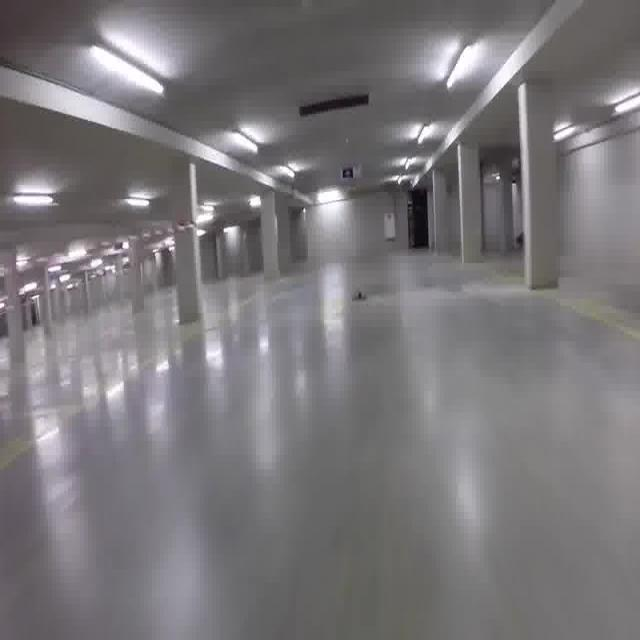drones: (348, 285, 368, 306)
